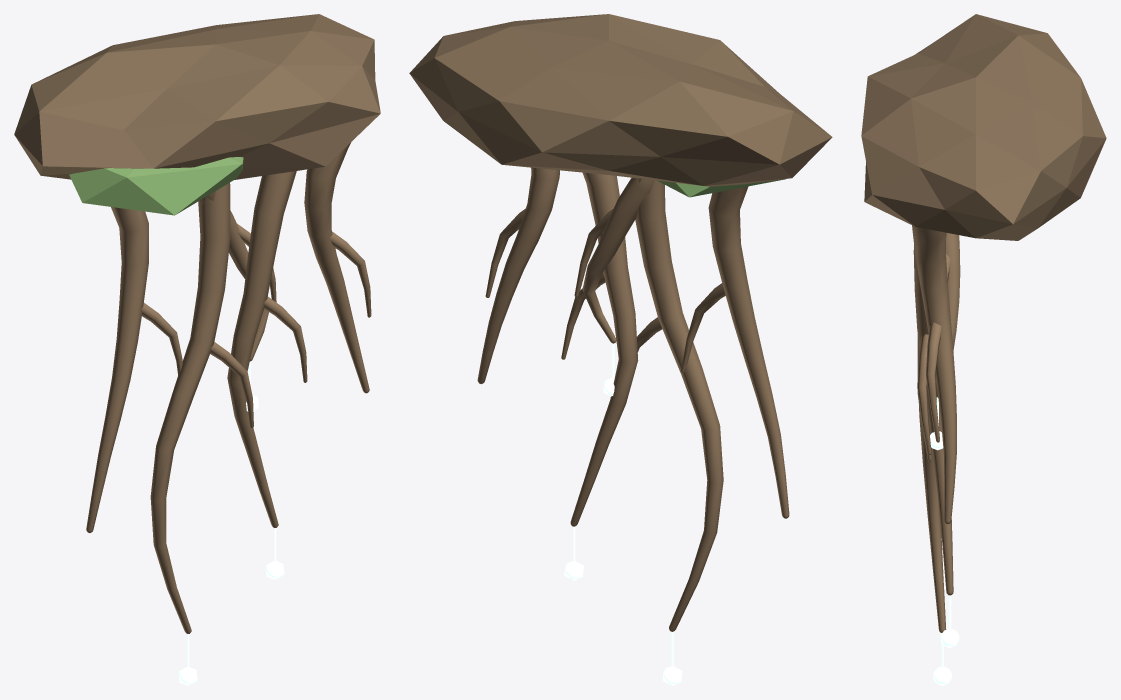
The model's file is root_hang.glb.
3 views of the same model, side by side, from view 1: azimuth 30°, elevation 25°; view 2: azimuth 150°, elevation 25°; view 3: azimuth 270°, elevation 25° (orthographic). The views are drawn at different scales.
Parts seen in each view (by area): view 1: root_hang; view 2: root_hang; view 3: root_hang.
Boxes of the visible parts, box(x1,y1,x2,y2) form: root_hang: box(14, 14, 380, 685); root_hang: box(409, 14, 832, 685); root_hang: box(861, 14, 1106, 685).
Size of the model in its own units: 1.18 by 1.9 by 0.6711.
